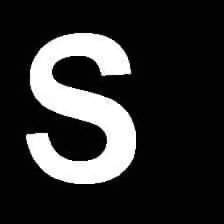LTR_S: (14, 29, 143, 188)
